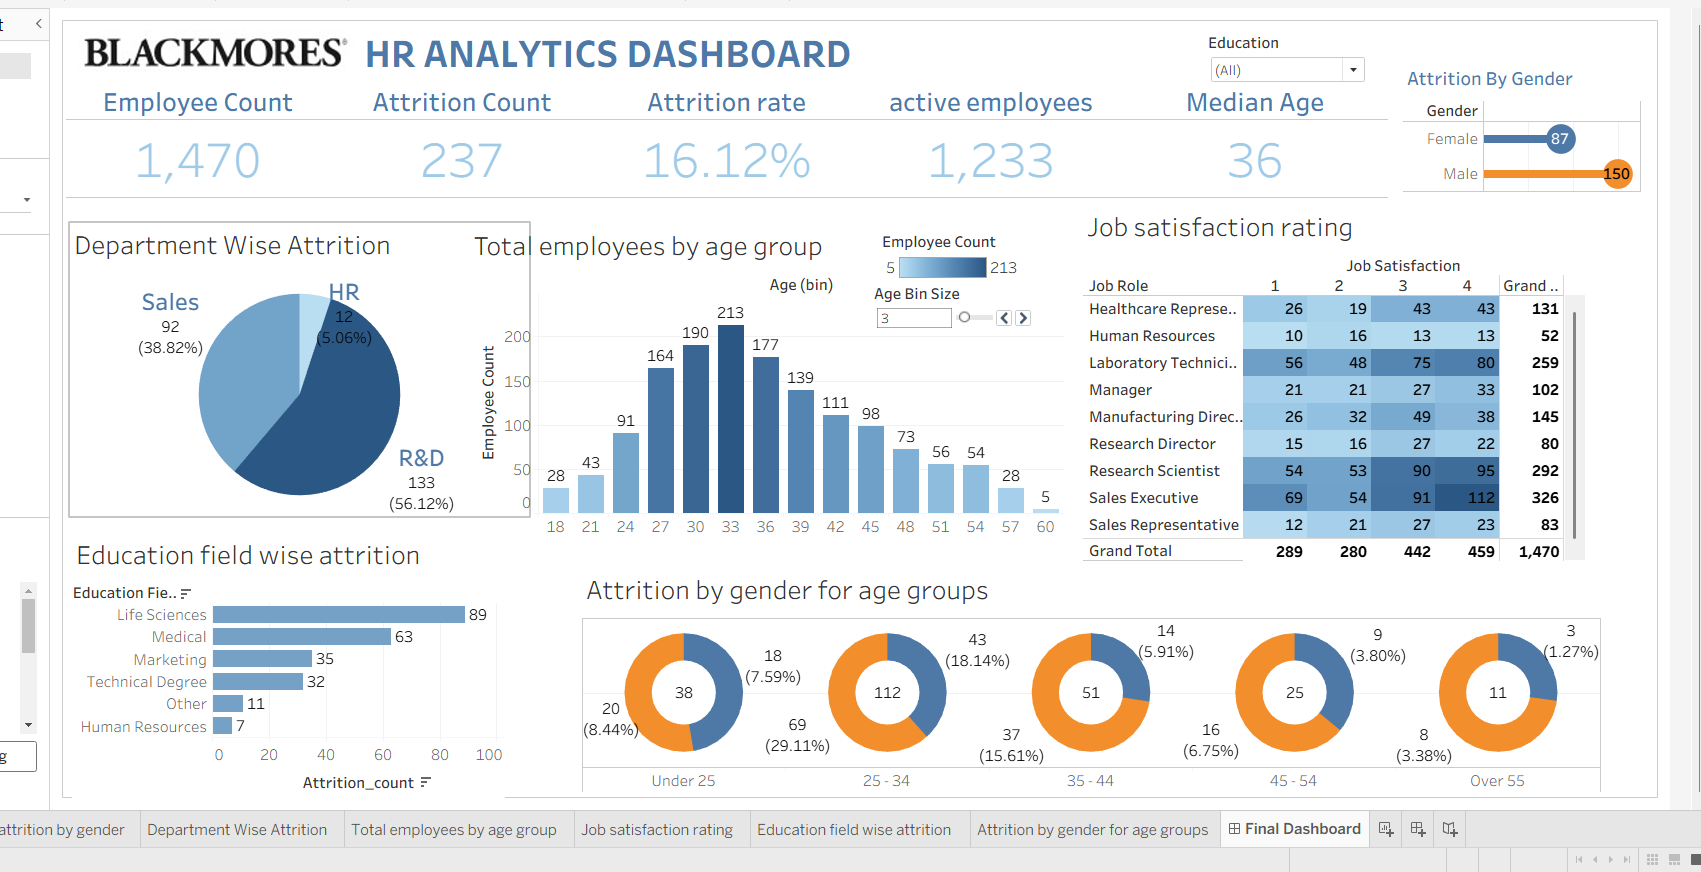

This screenshot's page, from the dashboard's own definition file:
{"tool":"tableau","page":{"name":"Final Dashboard","canvas":[1000,1000],"units":"permille","ordinal":0},"visuals":[{"type":"image","box":[4.9,10,990.1,980]},{"type":"title","box":[192,13.7,383.9,82.3]},{"type":"image","param":"Image/Blackmores logo.jpg","box":[17.3,26.2,196.3,58.6]},{"type":"filter","title":"Department Wise Attrition","param":"[federated.1mbs4pa00j3a2213ll0b017vtz50].[none:Education:nk]","box":[714.8,29.9,98.8,66.1]},{"type":"worksheet","title":"attrition by gender","mark":"Automatic","rows":["Gender"],"cols":["Calculation_1686879562505371649","Calculation_1686879562505371649"],"box":[835.2,66.1,146.9,163.3]},{"type":"worksheet","title":"KPI","mark":"Automatic","box":[9.9,88.5,816.1,148.4]},{"type":"worksheet","title":"Job satisfaction rating","mark":"Square","rows":["Job Role"],"cols":["Job Satisfaction"],"box":[637.6,245.3,352.5,443.7]},{"type":"worksheet","title":"Department Wise Attrition","mark":"Pie","box":[12.3,268.1,283.3,365.3]},{"type":"worksheet","title":"Total employees by age group","mark":"Automatic","rows":["Employee Count"],"cols":["Age (bin)"],"box":[259.3,268.8,366.7,392]},{"type":"legend","title":"Total employees by age group","param":"[federated.1mbs4pa00j3a2213ll0b017vtz50].[sum:Employee Count:qk]","box":[513.6,278.2,86.4,70.4]},{"type":"parameter","param":"[Parameters].[Parameter 1]","box":[508.6,342.7,98.8,83.3]},{"type":"worksheet","title":"Education field wise attrition","mark":"Automatic","rows":["Education Field"],"cols":["Calculation_1686879562505371649"],"box":[13.6,654.9,267.3,333.3]},{"type":"worksheet","title":"Attrition by gender for age groups","mark":"Pie","rows":["Calculation_205195285355102211","Calculation_205195285355102211"],"cols":["CF_age band"],"box":[328.4,698.4,629,280.5]}]}

Visuals, with their boxes on the dashboard's canvas, which has no fixed pixel size, in thousandths of its width and height (x1, y1, x2, y2). These are canvas units, not pixel positions in the 1701x872 screenshot, which may show the page scaled, cropped or inside an application window:
image: (left=5, top=10, right=995, bottom=990)
title: (left=192, top=14, right=576, bottom=96)
image: (left=17, top=26, right=214, bottom=85)
"Department Wise Attrition" filter: (left=715, top=30, right=814, bottom=96)
"attrition by gender" worksheet: (left=835, top=66, right=982, bottom=229)
"KPI" worksheet: (left=10, top=88, right=826, bottom=237)
"Job satisfaction rating" worksheet (Square marks): (left=638, top=245, right=990, bottom=689)
"Department Wise Attrition" worksheet (Pie marks): (left=12, top=268, right=296, bottom=633)
"Total employees by age group" worksheet: (left=259, top=269, right=626, bottom=661)
"Total employees by age group" legend: (left=514, top=278, right=600, bottom=349)
parameter: (left=509, top=343, right=607, bottom=426)
"Education field wise attrition" worksheet: (left=14, top=655, right=281, bottom=988)
"Attrition by gender for age groups" worksheet (Pie marks): (left=328, top=698, right=957, bottom=979)
